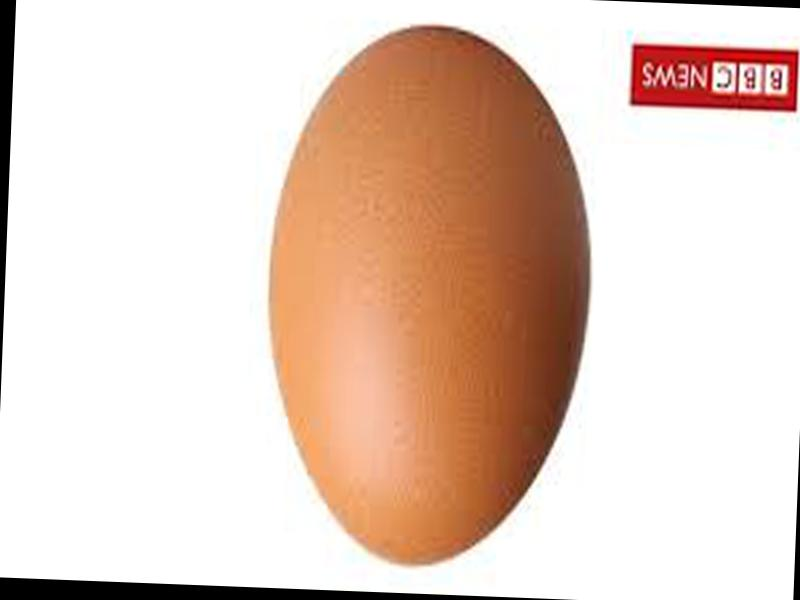Eggs: (258, 23, 598, 567)
